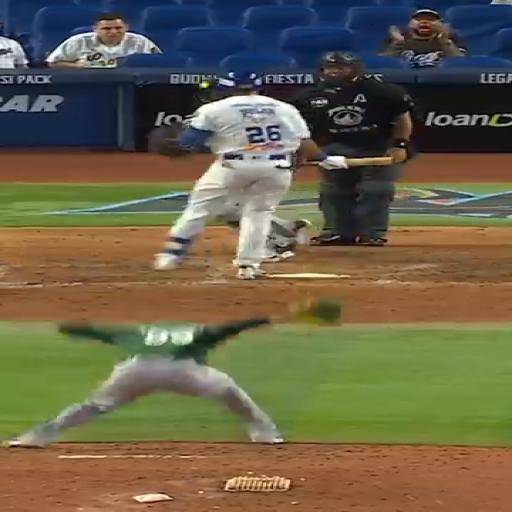bat: (346, 157, 393, 167)
